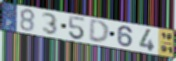3: (41, 12, 60, 36)
4: (138, 28, 157, 53)
5: (67, 14, 86, 41)
6: (116, 25, 134, 48)
8: (19, 8, 36, 32)
D: (88, 20, 111, 45)
